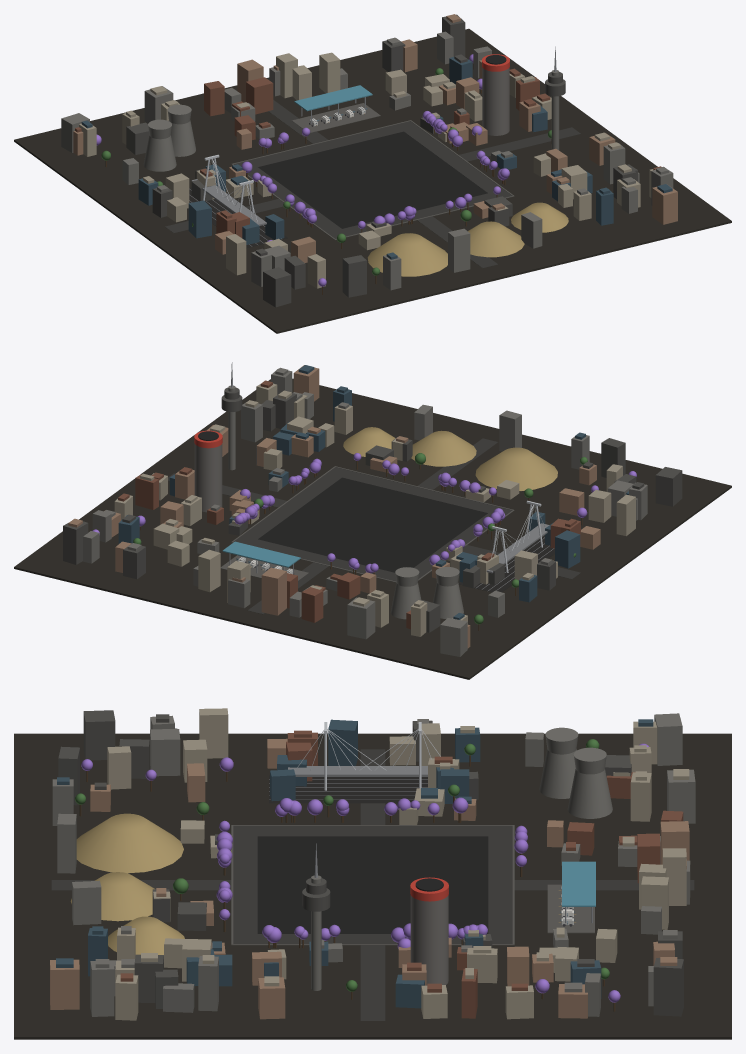
File: diorama.glb
The picture shows the model from 3 angles, top to bottom: view 1: azimuth 30°, elevation 25°; view 2: azimuth 150°, elevation 25°; view 3: azimuth 270°, elevation 25°; orthographic projection. The views are drawn at different scales.
Parts seen in each view (by area): view 1: city_ground, city_apron, mine_dump, ponte, mine_dump.001, road_ring, road_ring.001, rank_slab, block_74, road_out, block_19, orlando_base (+33 smaller); view 2: city_ground, city_apron, mine_dump, ponte, mine_dump.001, road_ring, road_ring.003, road_ring.001, block_30, block_2, block_69, block_74 (+27 smaller); view 3: city_ground, city_apron, mine_dump, rail_yard, ponte, road_ring.003, road_ring.001, road_ring.002, mine_dump.001, road_out, orlando_base.001, block_52 (+69 smaller).
Boxes of the visible parts, x1,y1,x2,y2 form: city_ground: [14, 28, 731, 333]; city_apron: [258, 131, 487, 228]; mine_dump: [367, 233, 447, 276]; ponte: [482, 68, 509, 135]; mine_dump.001: [468, 221, 524, 257]; road_ring: [395, 121, 511, 197]; road_ring.001: [234, 121, 413, 166]; rank_slab: [292, 103, 380, 132]; block_74: [263, 267, 291, 307]; road_out: [449, 127, 580, 163]; block_19: [342, 255, 366, 297]; orlando_base: [143, 135, 176, 171]; city_ground: [14, 378, 731, 679]; city_apron: [258, 477, 487, 572]; mine_dump: [475, 447, 557, 490]; ponte: [194, 444, 222, 512]; mine_dump.001: [411, 430, 476, 466]; road_ring: [234, 467, 350, 544]; road_ring.003: [327, 467, 511, 513]; road_ring.001: [235, 535, 418, 581]; block_30: [261, 567, 286, 615]; block_2: [347, 597, 375, 639]; block_69: [440, 618, 467, 656]; block_74: [655, 467, 682, 506]; city_ground: [14, 733, 731, 1039]; city_apron: [257, 836, 488, 933]; mine_dump: [76, 813, 183, 873]; rail_yard: [269, 775, 476, 803]; ponte: [410, 895, 448, 985]; road_ring.003: [233, 826, 257, 943]; road_ring.001: [488, 826, 512, 943]; road_ring.002: [233, 826, 512, 836]; mine_dump.001: [70, 872, 154, 921]; road_out: [360, 939, 385, 1020]; orlando_base.001: [567, 769, 612, 818]; block_52: [653, 958, 683, 1016].
Size of the model in its own units: 76 by 17.8 by 76.
